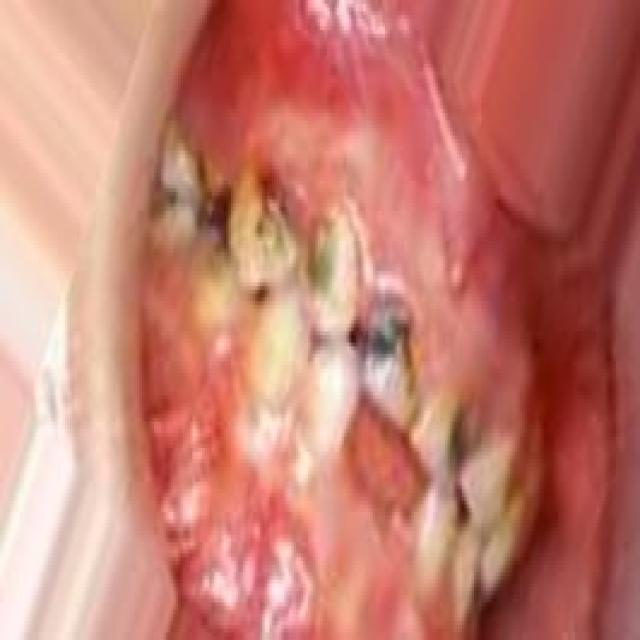caries: (220, 158, 297, 287), (358, 298, 420, 421), (300, 202, 349, 309), (160, 113, 208, 213), (428, 395, 474, 490)
